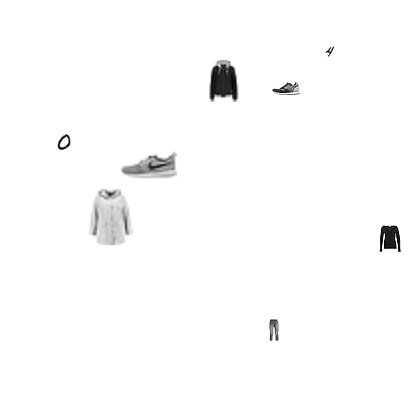0: (53, 131, 75, 153)
4: (323, 44, 337, 58)
Coat: (83, 189, 139, 245), (202, 60, 244, 102)
Pullover: (376, 225, 404, 253)
Sneaker: (121, 136, 177, 192), (272, 74, 300, 102)
Trouser: (263, 319, 285, 341)
